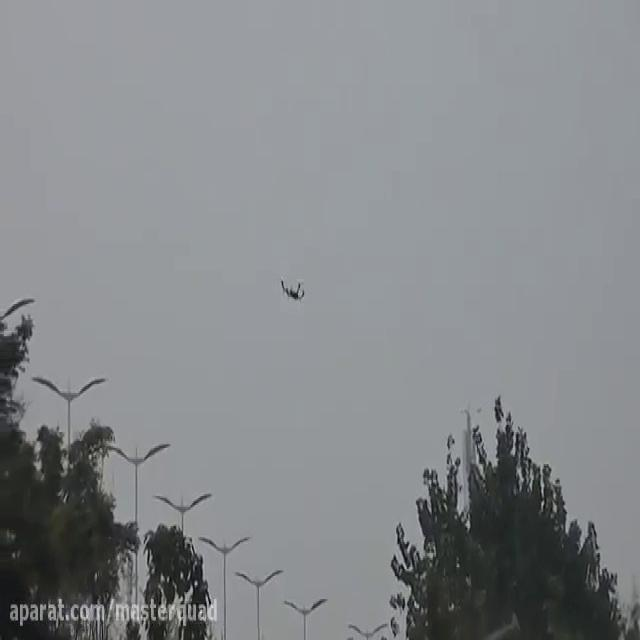drone: (277, 270, 307, 302)
